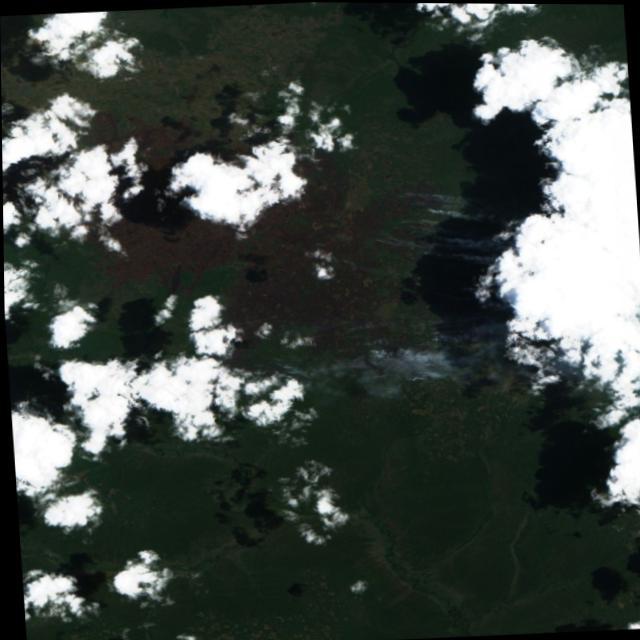fire: (342, 309, 473, 392), (364, 186, 467, 263), (271, 348, 318, 398)
